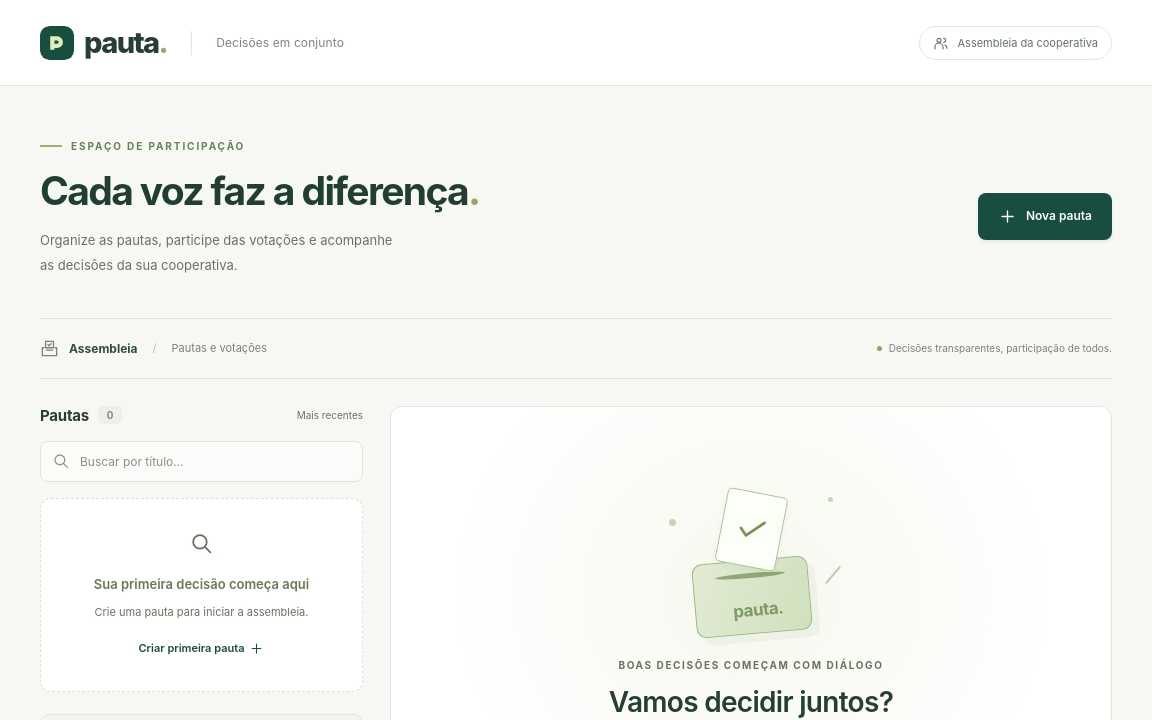
Scenario: fluxos da assembleia › apresenta validações detalhadas da API ao criar uma pauta
Step 1. Click the button "Nova pauta" → (1045, 216), box [978,193,1112,240]
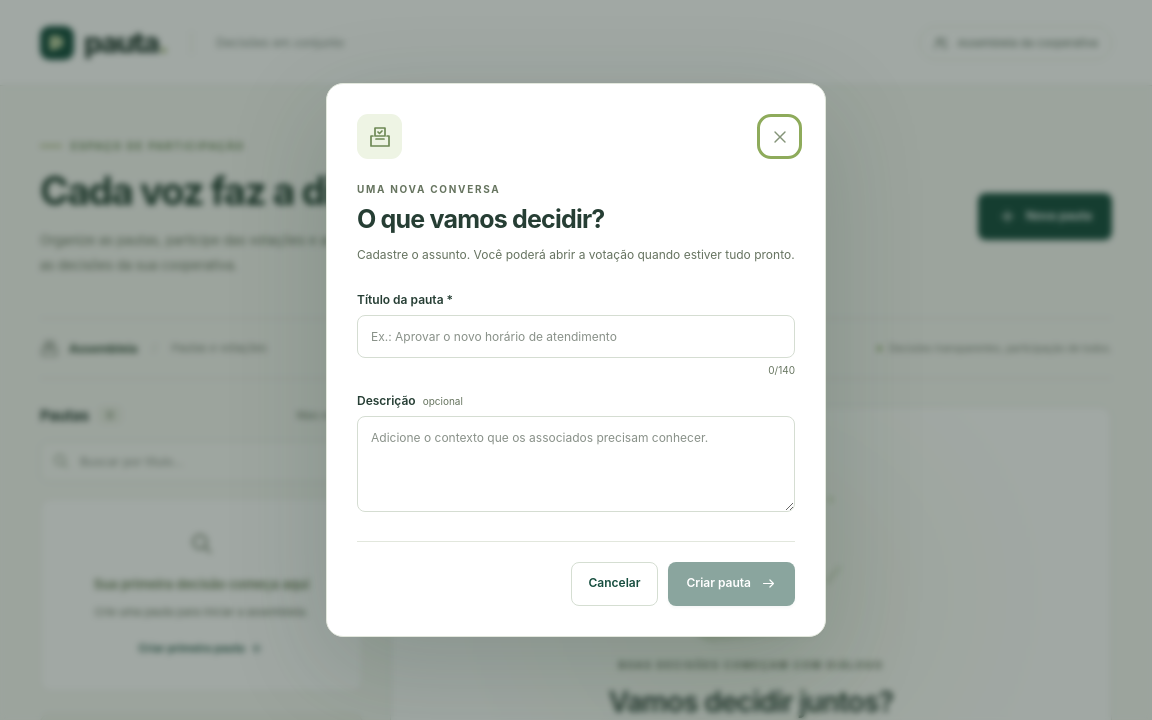
Step 2. Type "Título" into the field labelled "Título da pauta *" → (576, 336), box [357,315,795,358]
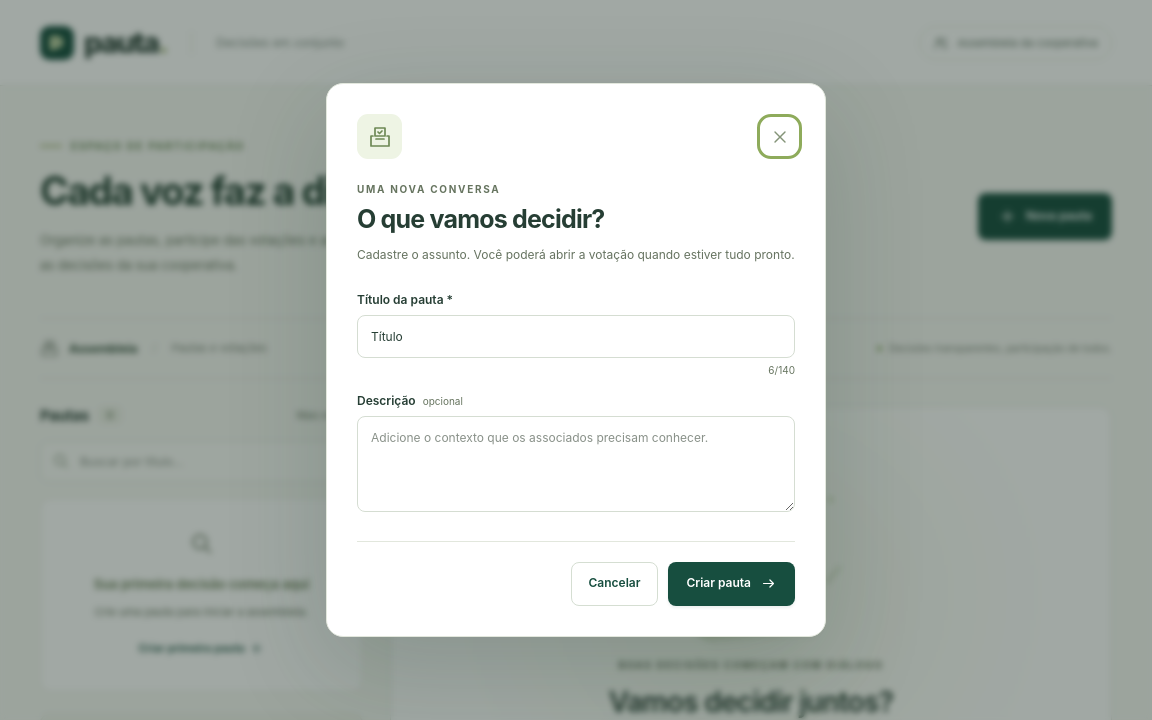
Step 3. Click the button "Criar pauta" → (732, 584), box [668,562,795,606]
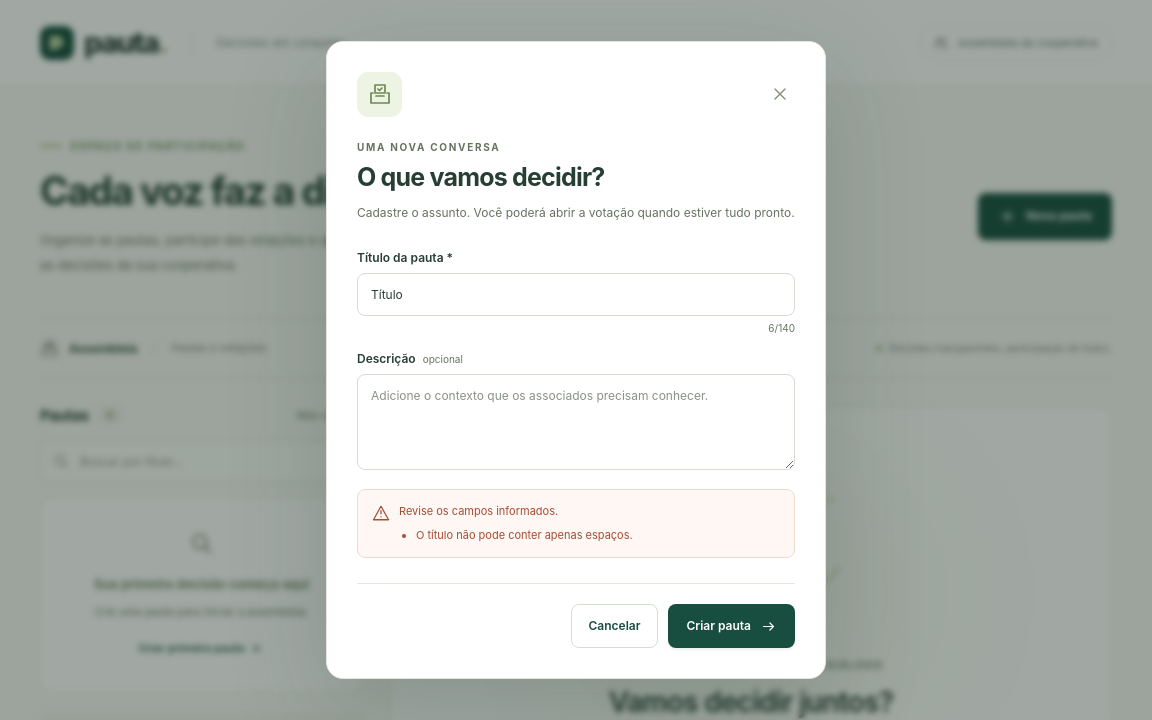
Expected: the dialog is shown, [326,41,826,679]
Expected: the message shows "Revise os campos informados.", [399,504,558,518]
Expected: the message shows "O título não pode conter apenas espaços.", [416,528,633,542]
